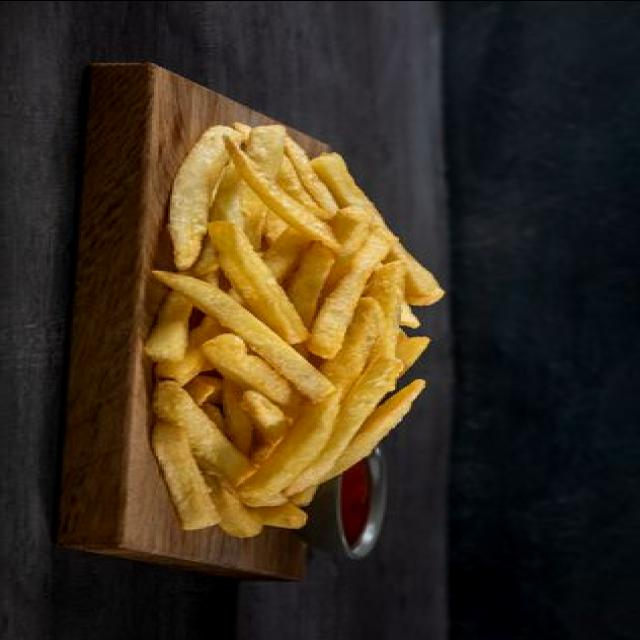kentang goreng: (142, 119, 439, 539)
